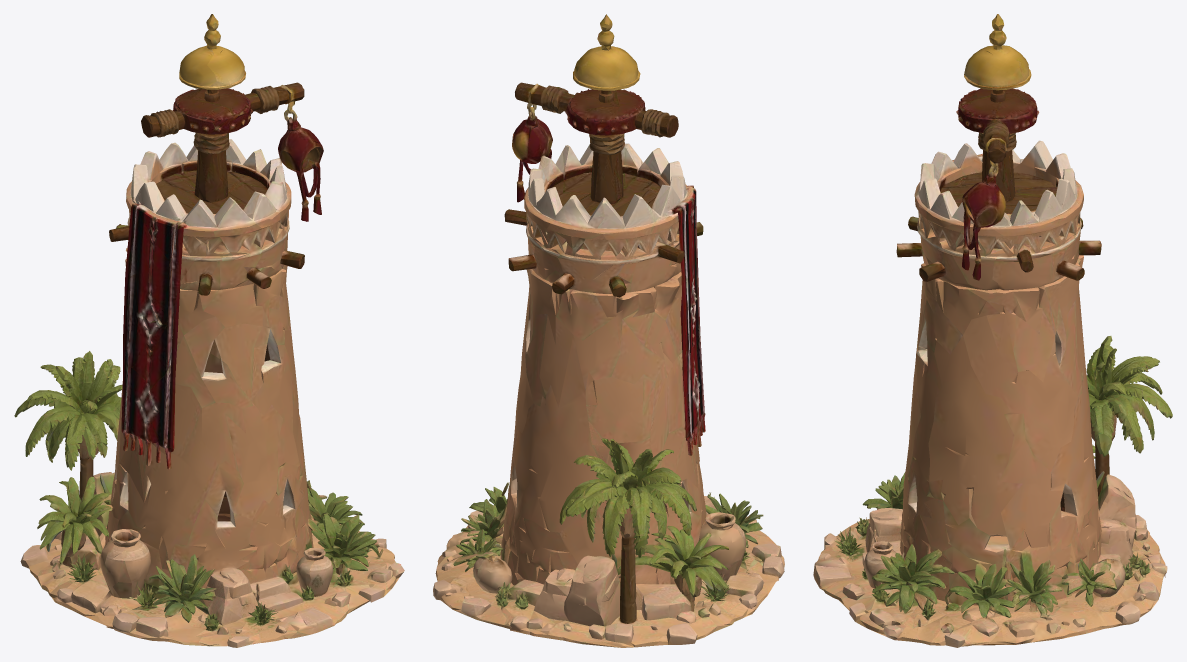
Rendered from falcon.glb.
3 renders of one model, left to right at view 1: azimuth 30°, elevation 25°; view 2: azimuth 150°, elevation 25°; view 3: azimuth 270°, elevation 25°, orthographic.
Parts seen in each view (by area): view 1: tower_b; view 2: tower_b; view 3: tower_b.
Part boxes in pixels (x1=…): tower_b: x1=14, y1=14, x2=404, y2=647; tower_b: x1=433, y1=14, x2=784, y2=647; tower_b: x1=813, y1=14, x2=1172, y2=647.
Bounding box in the file's own units: 1.1 × 1.9 × 1.11.
1 material, 1 textured.
